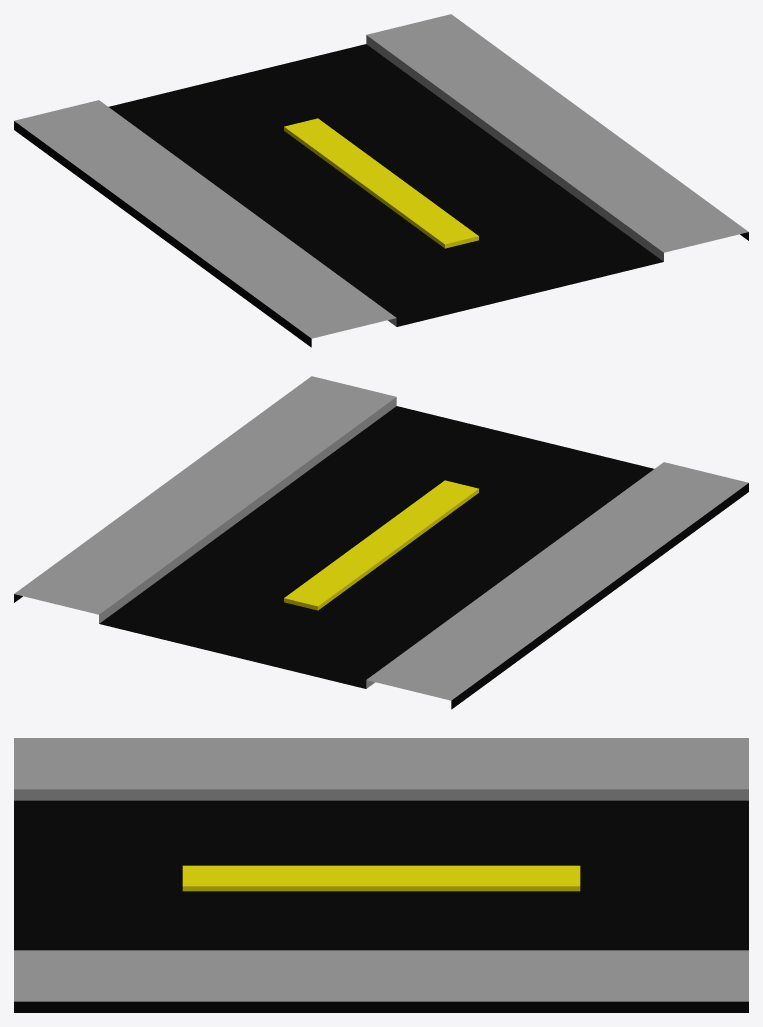
The model's file is RoadStraight.fbx.
3 views of the same model, one above another, from view 1: azimuth 30°, elevation 25°; view 2: azimuth 150°, elevation 25°; view 3: azimuth 270°, elevation 25° (orthographic). The views are drawn at different scales.
Visible parts, largest first — view 1: Plane; view 2: Plane; view 3: Plane.
Boxes of the visible parts, x1,y1,x2,y2 form: Plane: (14, 14, 748, 347); Plane: (14, 376, 748, 709); Plane: (14, 738, 748, 1012).
Bounding box in the file's own units: 2571 × 121 × 3032.
